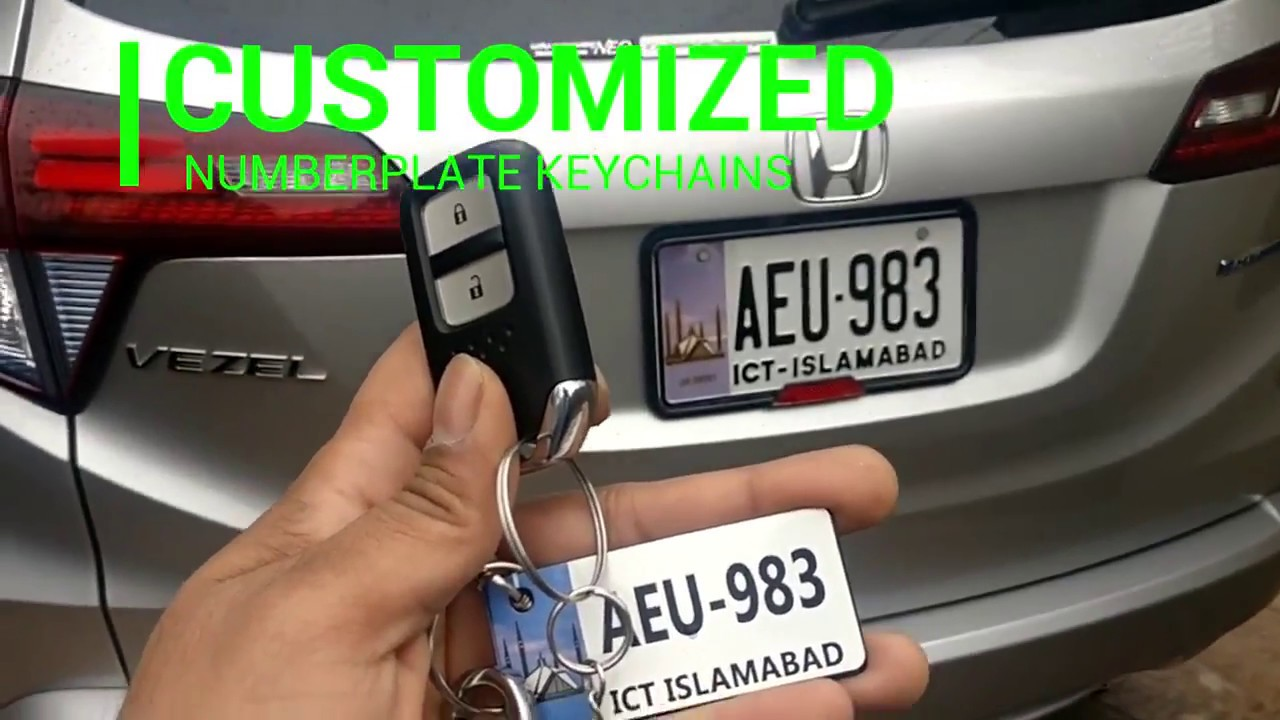plate: (481, 503, 871, 720), (637, 191, 983, 421)
